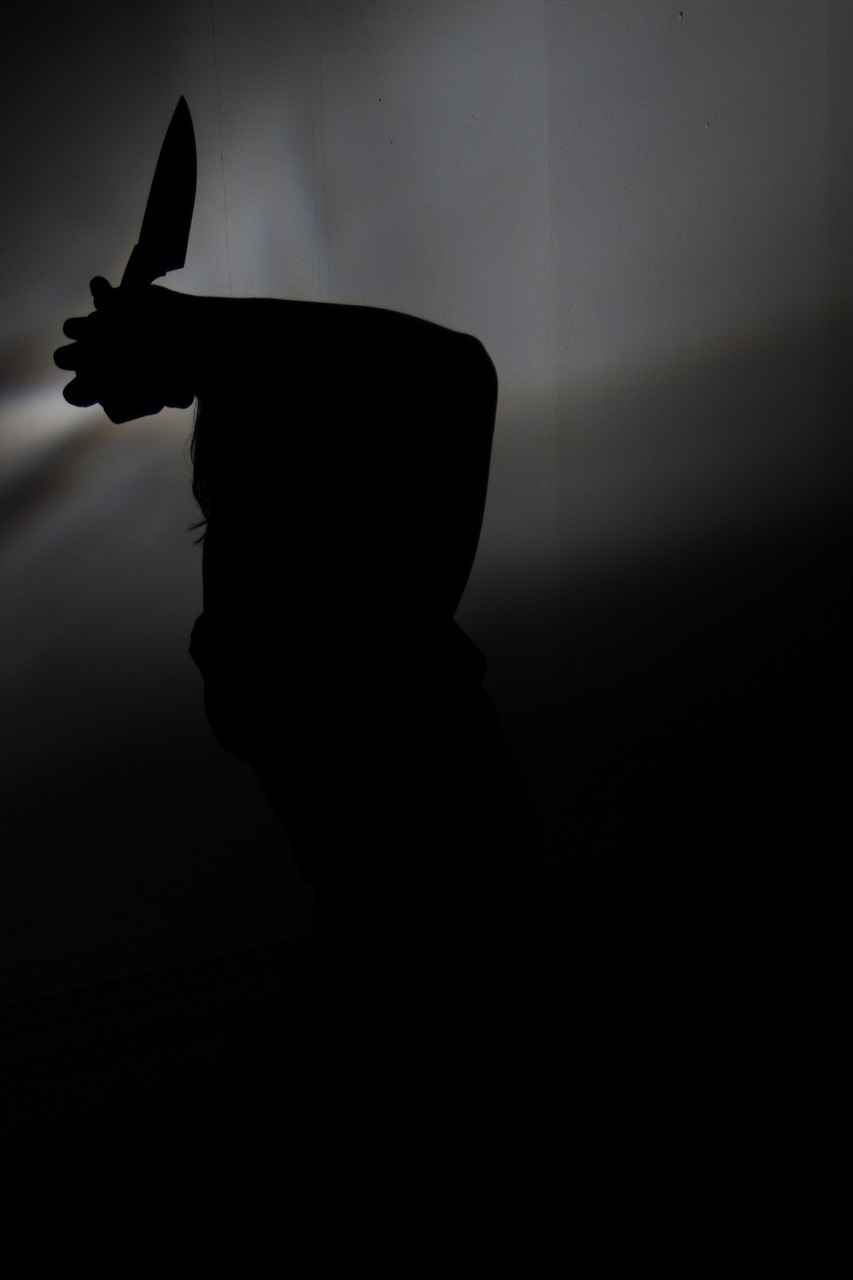knife: (117, 89, 201, 287)
